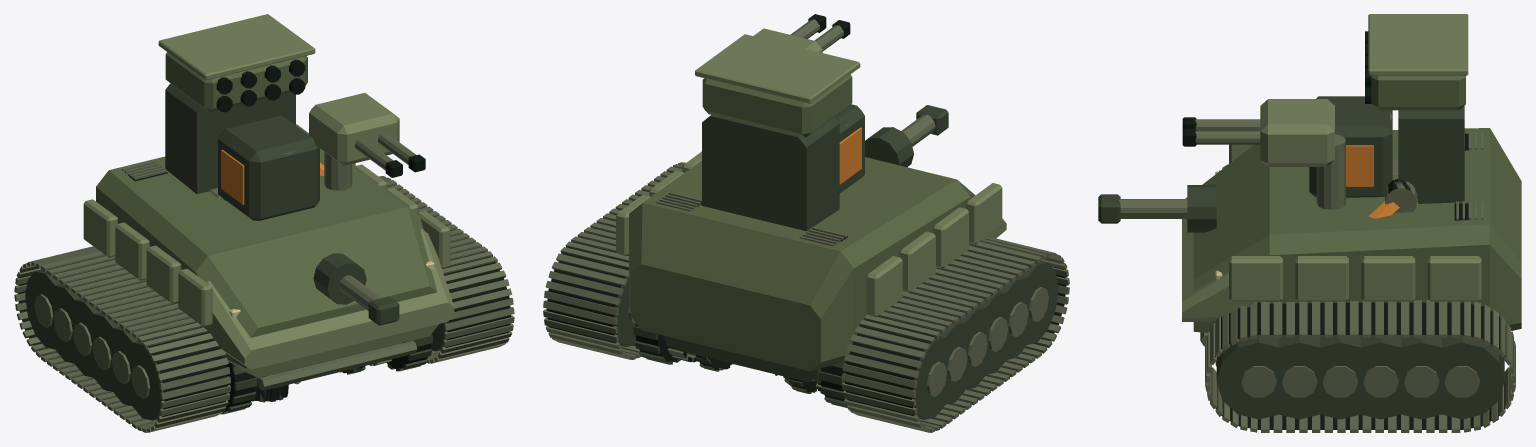
The model's file is military_enemies.glb.
3 renders of one model, left to right at view 1: azimuth 30°, elevation 25°; view 2: azimuth 150°, elevation 25°; view 3: azimuth 270°, elevation 25°, orthographic. The views are drawn at different scales.
Parts seen in each view (by area): view 1: Body.008, Component_LeftDrive, Component_MissilePod, Component_Core, Component_RightDrive, Component_GunPod, Body.004, Wheel_-1.32_-1.25, Wheel_1.32_-1.25; view 2: Body.008, Component_LeftDrive, Component_MissilePod, Component_RightDrive, Component_Core, Body.004, Component_GunPod, Wheel_1.32_1.13, Wheel_-1.32_1.13; view 3: Body.008, Component_RightDrive, Component_MissilePod, Component_GunPod, Component_Core, Body.006.
Boxes of the visible parts, box(x1,y1,x2,y2) form: Body.008: box(83, 83, 454, 377); Component_LeftDrive: box(14, 246, 230, 432); Component_MissilePod: box(158, 14, 315, 112); Component_Core: box(218, 115, 319, 220); Component_RightDrive: box(379, 176, 514, 363); Component_GunPod: box(309, 93, 425, 190); Body.004: box(209, 188, 417, 390); Wheel_-1.32_-1.25: box(221, 362, 257, 414); Wheel_1.32_-1.25: box(387, 334, 432, 371); Body.008: box(616, 105, 1006, 371); Component_LeftDrive: box(841, 236, 1069, 432); Component_MissilePod: box(695, 34, 860, 137); Component_RightDrive: box(543, 162, 685, 359); Component_Core: box(835, 104, 864, 193); Body.004: box(663, 335, 820, 382); Component_GunPod: box(753, 14, 850, 52); Wheel_1.32_1.13: box(633, 323, 680, 364); Wheel_-1.32_1.13: box(819, 360, 847, 407); Body.008: box(1098, 105, 1521, 332); Component_RightDrive: box(1205, 300, 1515, 432); Component_MissilePod: box(1365, 14, 1468, 110); Component_GunPod: box(1182, 99, 1345, 209); Component_Core: box(1309, 96, 1392, 197); Body.006: box(1368, 181, 1417, 218).
Bounding box in the file's own units: 11.63 × 9.8 × 11.54.
Materials: 1 (1 with a texture image).
